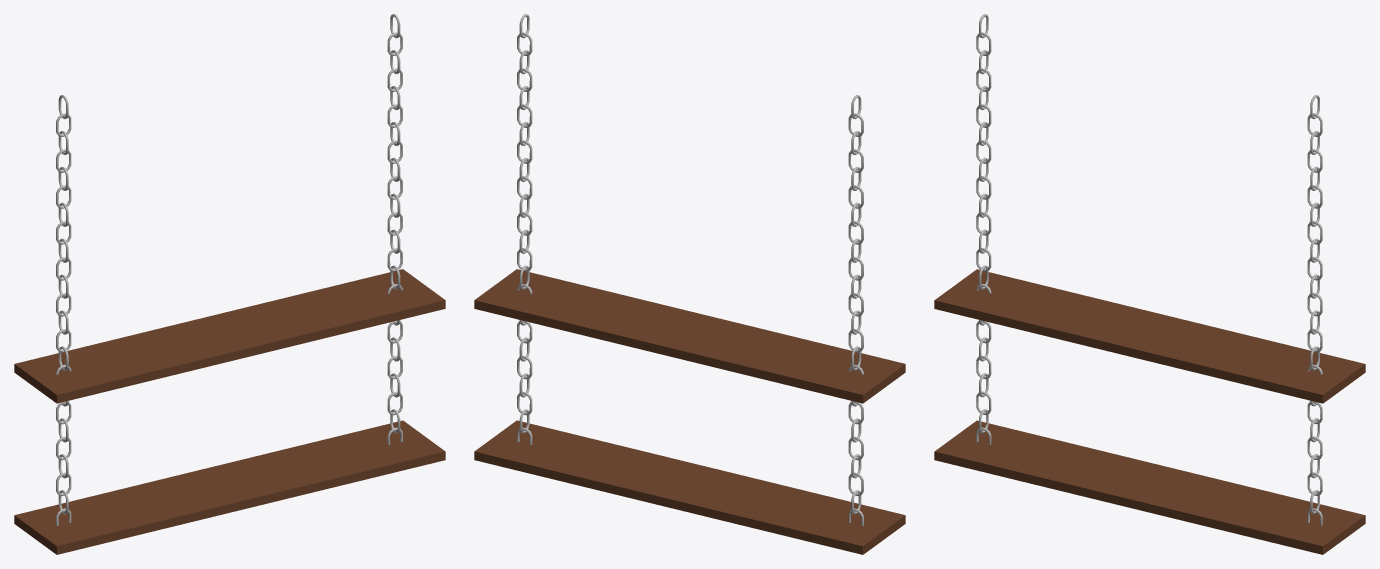
The model's file is Prateleiras.fbx.
3 views of the same model, side by side, from view 1: azimuth 30°, elevation 25°; view 2: azimuth 150°, elevation 25°; view 3: azimuth 330°, elevation 25° (orthographic).
Visible parts, largest first — view 1: Estante; view 2: Estante; view 3: Estante.
Boxes of the visible parts, x1=… form: Estante: x1=14, y1=14, x2=445, y2=554; Estante: x1=474, y1=14, x2=905, y2=554; Estante: x1=934, y1=14, x2=1365, y2=554.
Bounding box in the file's own units: 854 × 917 × 162.
